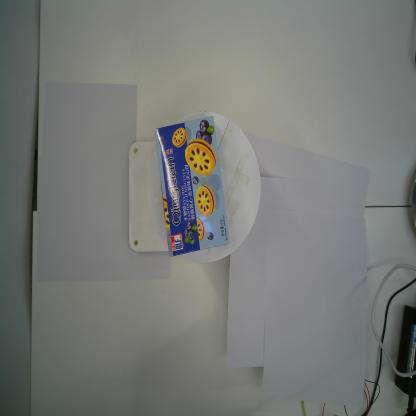Dessert: (155, 116, 230, 258)
